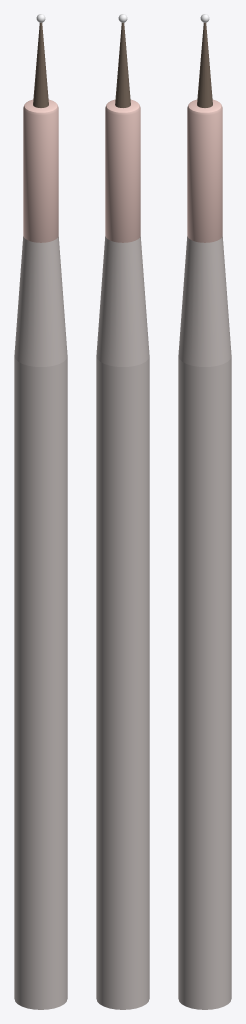
File: micro-liner-brush.glb
The picture shows the model from 3 angles, left to right: view 1: azimuth 90°, elevation 25°; view 2: azimuth 210°, elevation 25°; view 3: azimuth 270°, elevation 25°; orthographic projection.
Visible parts, largest first — view 1: brush_Handle, brush_GripCone, brush_RoseGoldFerrule, brush_SableBristles; view 2: brush_Handle, brush_GripCone, brush_RoseGoldFerrule, brush_SableBristles; view 3: brush_Handle, brush_GripCone, brush_RoseGoldFerrule, brush_SableBristles.
Boxes of the visible parts, x1=… form: brush_Handle: x1=14, y1=356, x2=67, y2=1009; brush_GripCone: x1=14, y1=236, x2=67, y2=366; brush_RoseGoldFerrule: x1=23, y1=99, x2=58, y2=242; brush_SableBristles: x1=33, y1=22, x2=48, y2=107; brush_Handle: x1=96, y1=356, x2=149, y2=1009; brush_GripCone: x1=96, y1=236, x2=149, y2=366; brush_RoseGoldFerrule: x1=105, y1=99, x2=140, y2=242; brush_SableBristles: x1=115, y1=22, x2=130, y2=107; brush_Handle: x1=178, y1=356, x2=231, y2=1009; brush_GripCone: x1=178, y1=236, x2=231, y2=366; brush_RoseGoldFerrule: x1=187, y1=99, x2=222, y2=242; brush_SableBristles: x1=197, y1=22, x2=212, y2=107.
Size of the model in its own units: 0.012 by 0.245 by 0.012.
